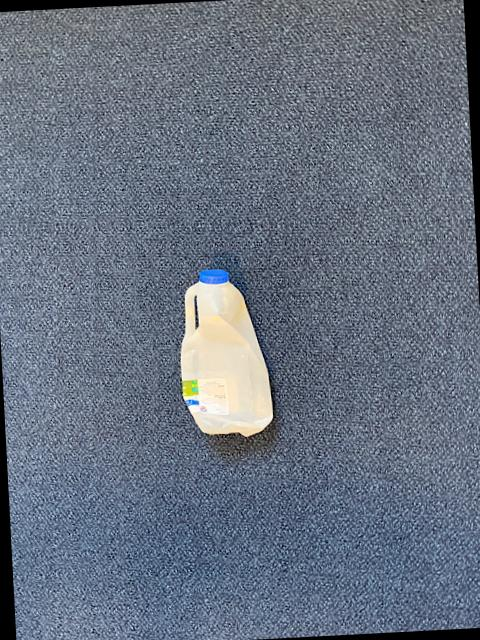plastic: (180, 271, 271, 437)
